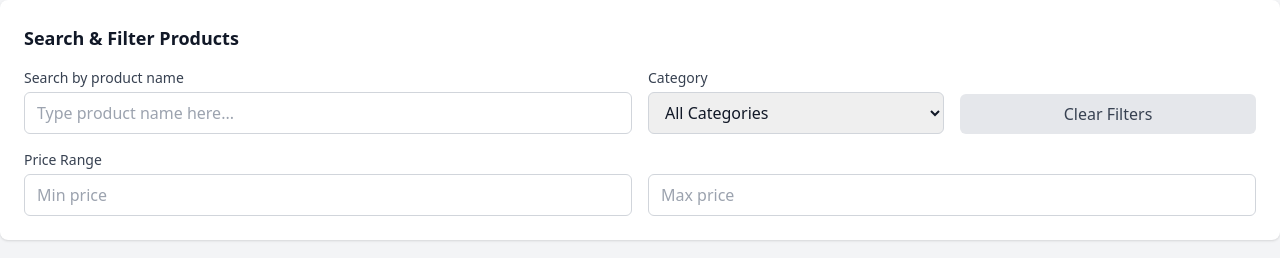
Test: SearchFilter › should clear all filters when clear button is clicked
Type "iPhone" into the field labelled "Search by product name" at {"x": 328, "y": 113}, box [24,92,632,134]
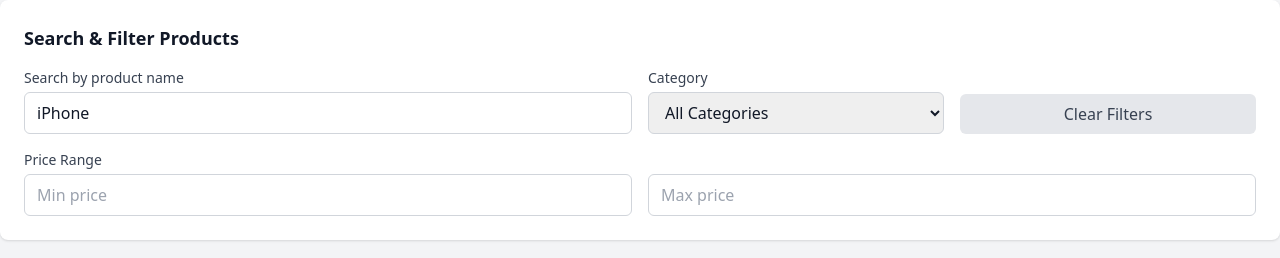
Select "Smartphones" in the dropdown labelled "Category" at {"x": 796, "y": 113}, box [648,92,944,134]
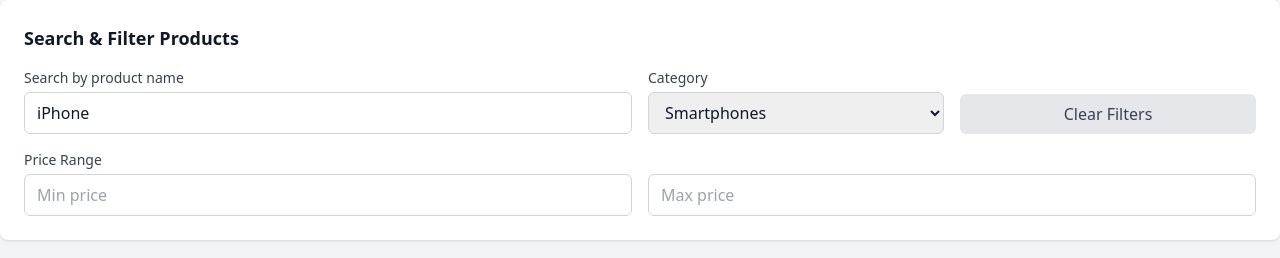
Click the button "Clear Filters" at {"x": 1108, "y": 114}, box [960,94,1256,134]
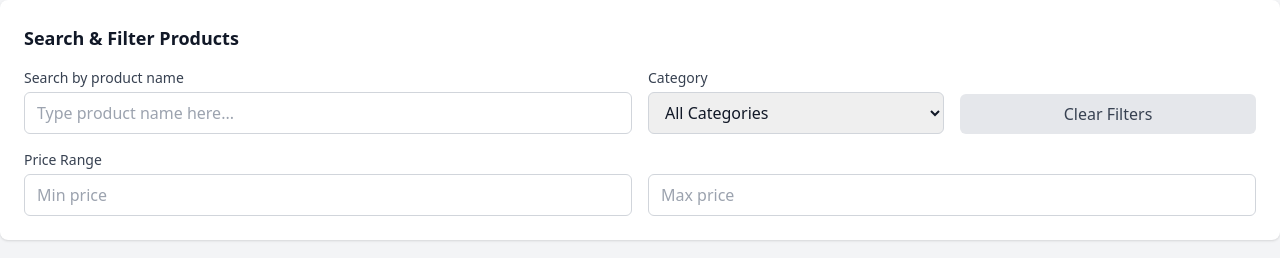
Result: the field labelled "Search by product name" is empty at [24,92,632,134]
